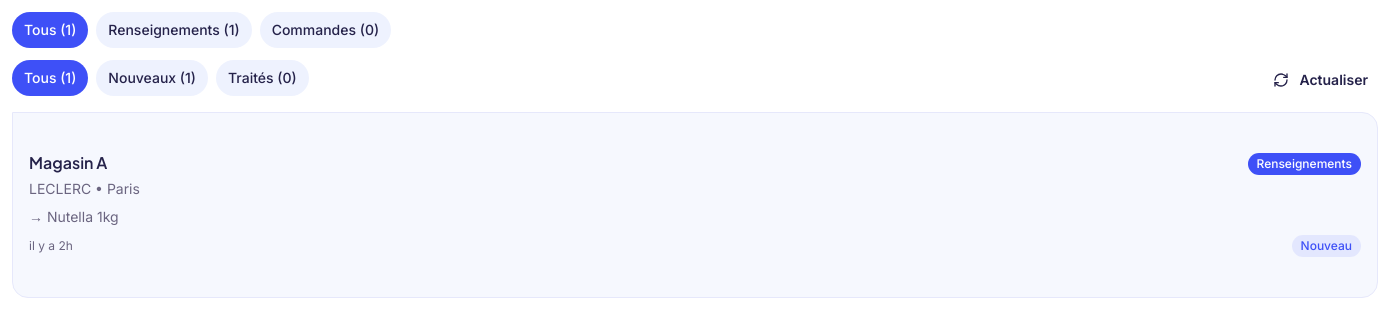
it: SupplierRequestList › shows combined empty state message when both filters active
Click the radio button "Commandes (0)" at (325, 30), box [260,12,391,48]
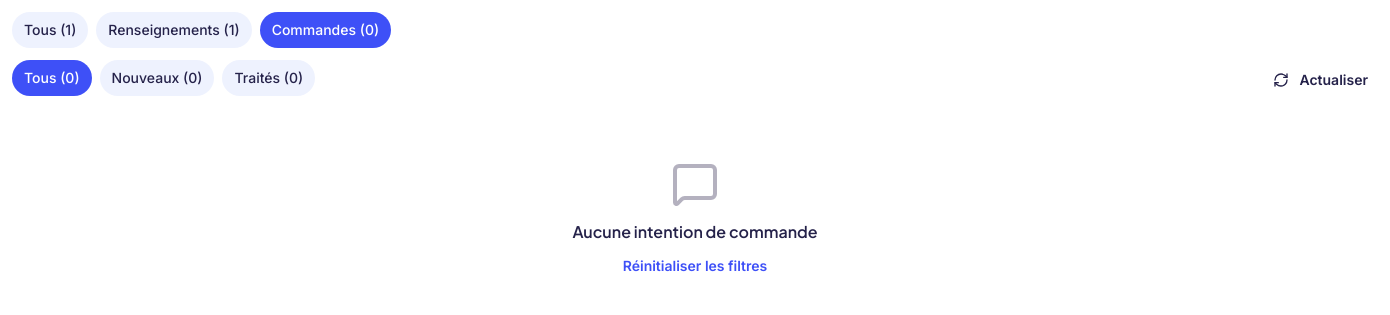
Click the radio button "Nouveaux (0)" at (157, 78), box [100,60,214,96]
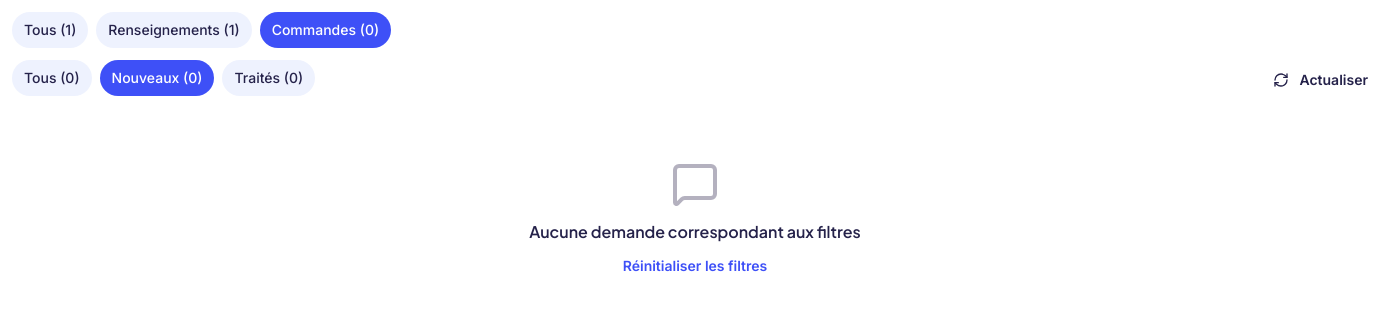
Now the text "Aucune demande correspondant aux filtres" is shown, box [529,220,861,244]
